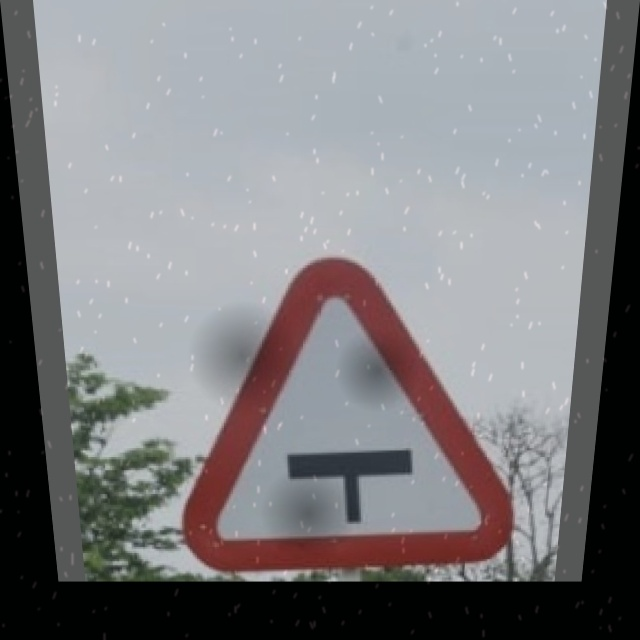T_Intersection: (176, 259, 531, 559)
